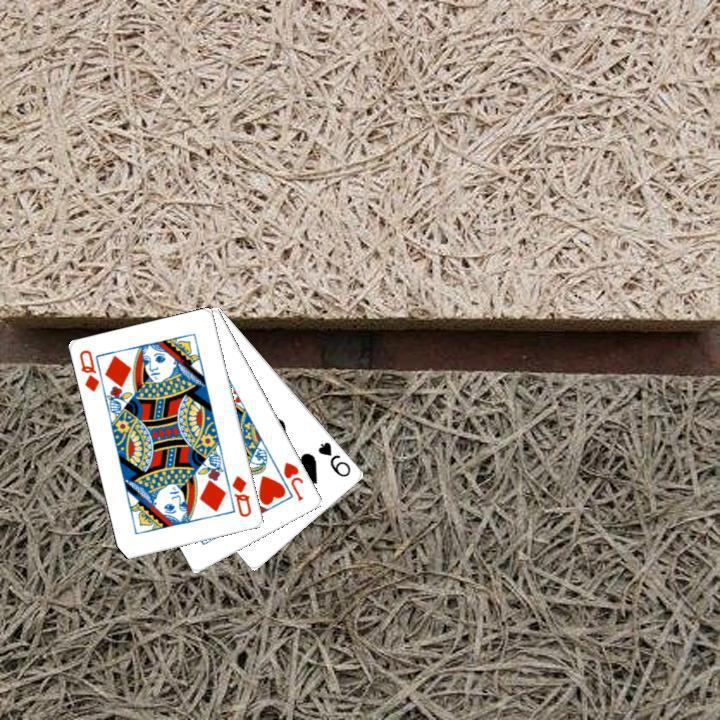9: (314, 437, 353, 479)
J: (279, 458, 306, 503)
Q: (75, 346, 102, 394), (228, 471, 254, 519)
